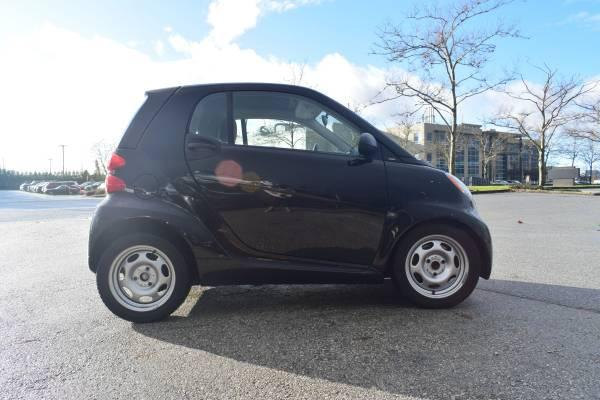Front_Fender: (371, 146, 491, 281)
Front_Right_Door: (186, 136, 389, 281)
Front_Right_Window: (185, 90, 384, 162)
Rear_Fender: (87, 94, 257, 283)
Right_Taillight: (107, 146, 133, 192)
Roof: (118, 81, 410, 156)
Wheel: (96, 231, 192, 320), (392, 224, 481, 308)
